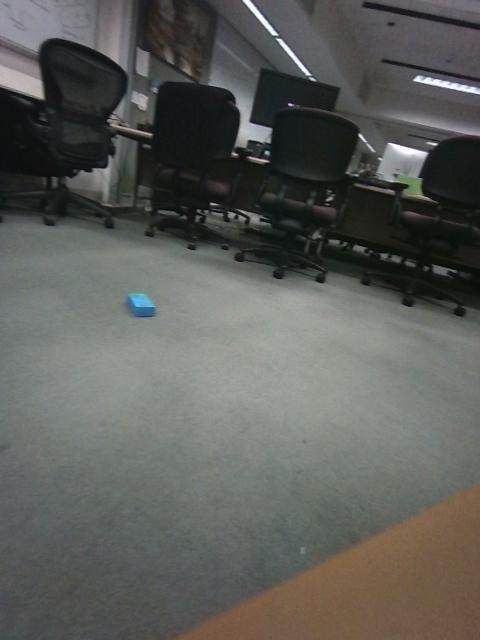block: (1, 256, 58, 292)
